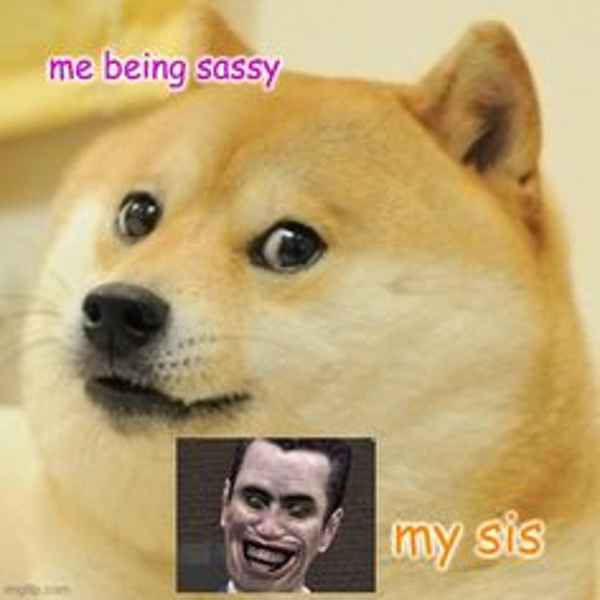doge: (38, 43, 534, 459)
